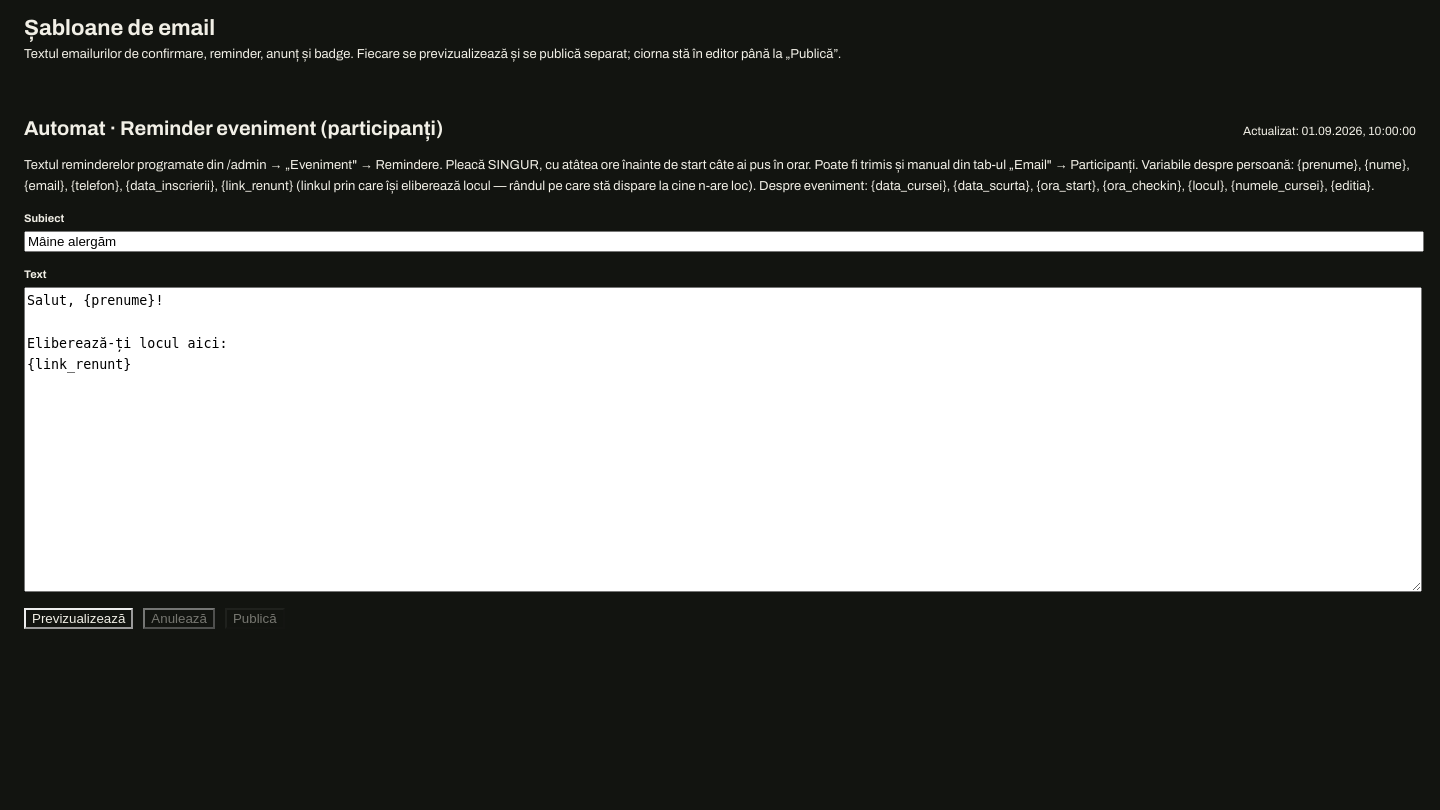
Test: AdminTemplatesTab — previzualizarea HTML › spune pentru CINE s-au completat variabilele
Click the button "Previzualizează" at {"x": 79, "y": 618}, box [24, 608, 133, 629]
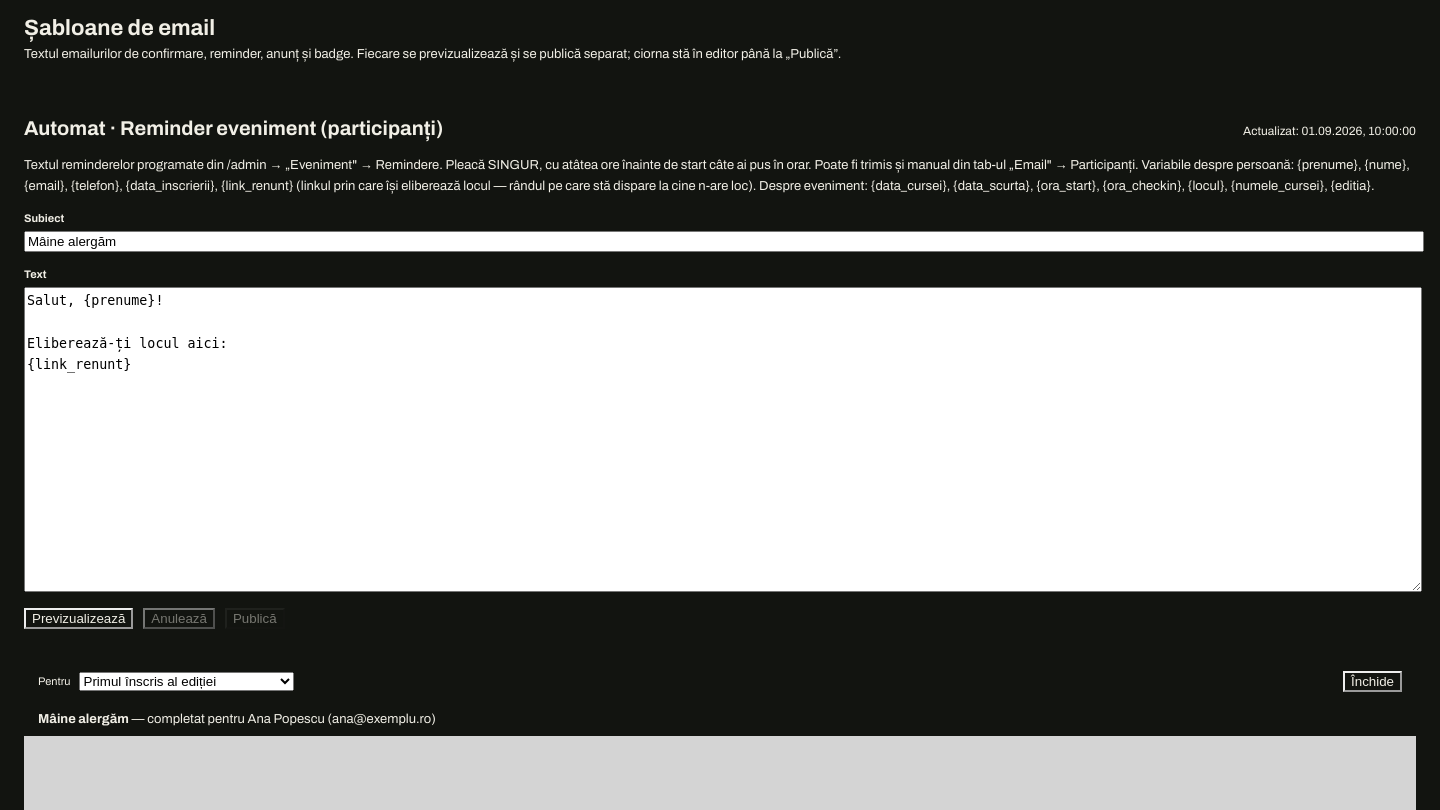
Expected: the text "Ana Popescu (ana@exemplu.ro)" is shown, [38, 712, 436, 726]
